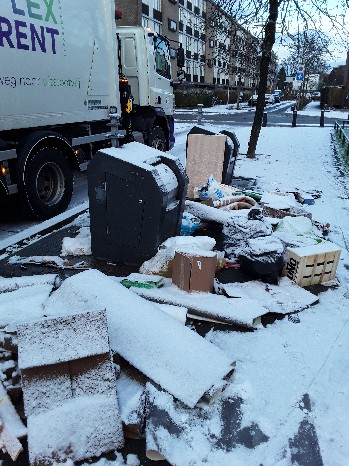Container: (98, 144, 170, 259), (198, 119, 257, 184)
Papier: (172, 246, 216, 291)
Rest: (56, 272, 187, 377), (220, 187, 267, 245), (234, 227, 281, 282), (286, 239, 330, 283), (190, 136, 226, 184), (182, 191, 219, 229)
Voertuig: (12, 1, 178, 149)
